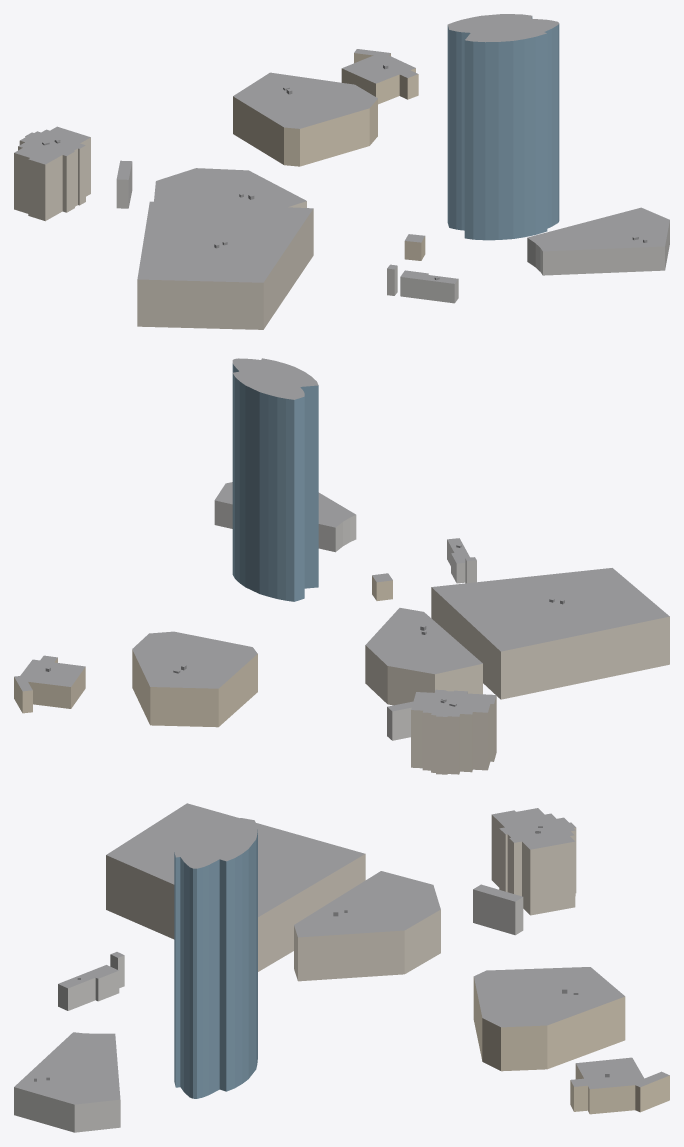
File: building_1_3.glb
The picture shows the model from 3 angles, top to bottom: view 1: azimuth 30°, elevation 25°; view 2: azimuth 150°, elevation 25°; view 3: azimuth 270°, elevation 25°; orthographic projection. The views are drawn at different scales.
Visible parts, largest first — view 1: roof, glass_blue, concrete_warm, sandstone, concrete_light; view 2: roof, concrete_warm, glass_blue, sandstone, concrete_light; view 3: roof, concrete_warm, glass_blue, sandstone, concrete_light.
Boxes of the visible parts, x1,y1,x2,y2 form: roof: (14,14,669,283); glass_blue: (447,16,559,240); concrete_warm: (14,136,313,329); sandstone: (233,53,425,260); concrete_light: (116,162,669,303); roof: (14,358,669,716); concrete_warm: (365,587,669,774); glass_blue: (232,363,318,601); sandstone: (14,576,392,727); concrete_light: (214,500,476,740); roof: (14,803,669,1104); concrete_warm: (106,815,576,981); glass_blue: (174,829,257,1098); sandstone: (473,976,669,1114); concrete_light: (14,889,523,1132).
Bounding box in the file's own units: 269 × 105 × 271.
